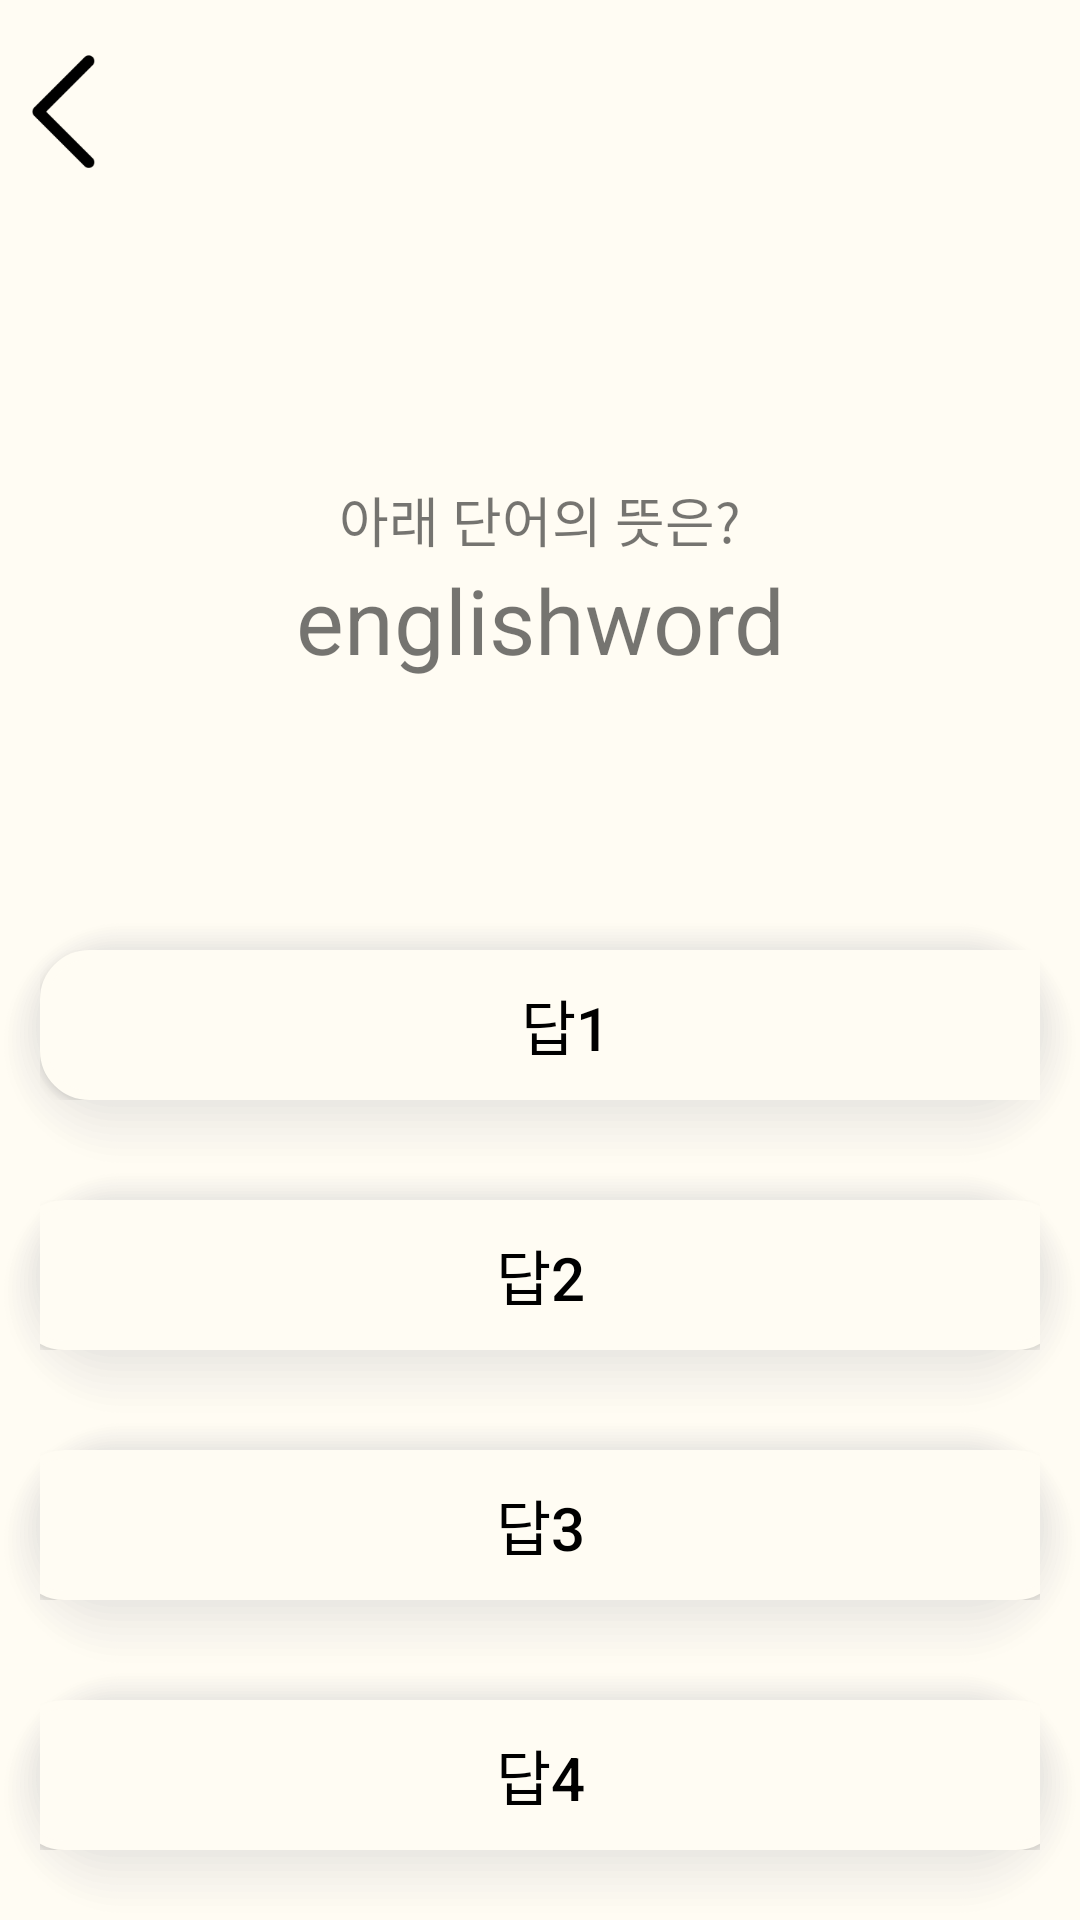

Where to tap for icons on this 1080px x 1920px app screen, as (x,y):
backbutton: (63,111)
